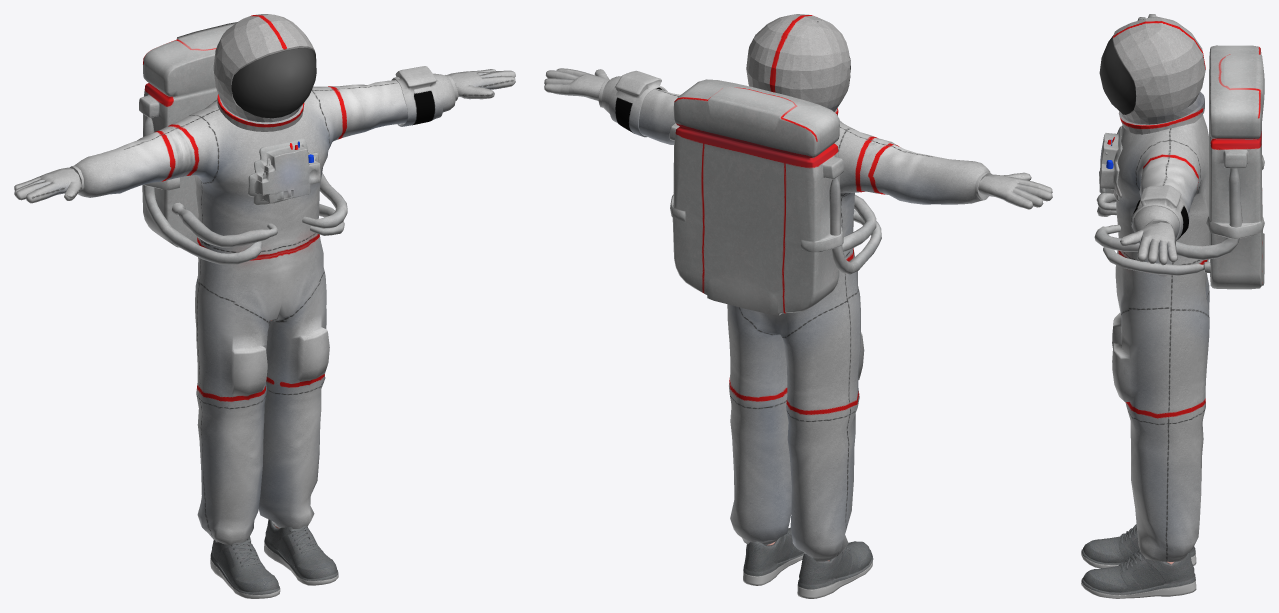
File: AstronautAvatar_mdl.fbx
3 renders of one model, left to right at view 1: azimuth 30°, elevation 25°; view 2: azimuth 150°, elevation 25°; view 3: azimuth 270°, elevation 25°, orthographic.
Parts seen in each view (by area): view 1: suit_geo, bacgpack_geo, helmet_geo, body_geo (×2), helmet_glass_geo, mech_1_geo, watch_geo, r_gloves_geo, l_gloves1_geo; view 2: suit_geo, bacgpack_geo, helmet_geo, body_geo (×2), watch_geo, r_gloves_geo, l_gloves1_geo; view 3: suit_geo, bacgpack_geo, helmet_geo, body_geo (×2), helmet_glass_geo, l_gloves1_geo, watch_geo, mech_1_geo.
Part boxes in pixels (<box>): suit_geo: <box>70,73,458,545</box>; bacgpack_geo: <box>139,22,347,264</box>; helmet_geo: <box>213,14,316,131</box>; body_geo (×2): <box>210,519,338,598</box>; helmet_glass_geo: <box>231,48,316,118</box>; mech_1_geo: <box>247,138,320,205</box>; watch_geo: <box>392,66,442,126</box>; r_gloves_geo: <box>14,167,82,203</box>; l_gloves1_geo: <box>447,69,515,99</box>; suit_geo: <box>598,76,992,561</box>; bacgpack_geo: <box>669,79,881,315</box>; helmet_geo: <box>746,14,850,115</box>; body_geo (×2): <box>743,527,873,598</box>; watch_geo: <box>609,70,667,137</box>; r_gloves_geo: <box>978,172,1052,209</box>; l_gloves1_geo: <box>544,68,608,100</box>; suit_geo: <box>1112,115,1209,561</box>; bacgpack_geo: <box>1094,45,1264,289</box>; helmet_geo: <box>1112,16,1205,134</box>; body_geo (×2): <box>1081,528,1196,598</box>; helmet_glass_geo: <box>1099,35,1136,114</box>; l_gloves1_geo: <box>1120,222,1177,265</box>; watch_geo: <box>1131,185,1189,240</box>; mech_1_geo: <box>1099,126,1122,200</box>.
Size of the model in its own units: 183 by 193 by 58.01.
